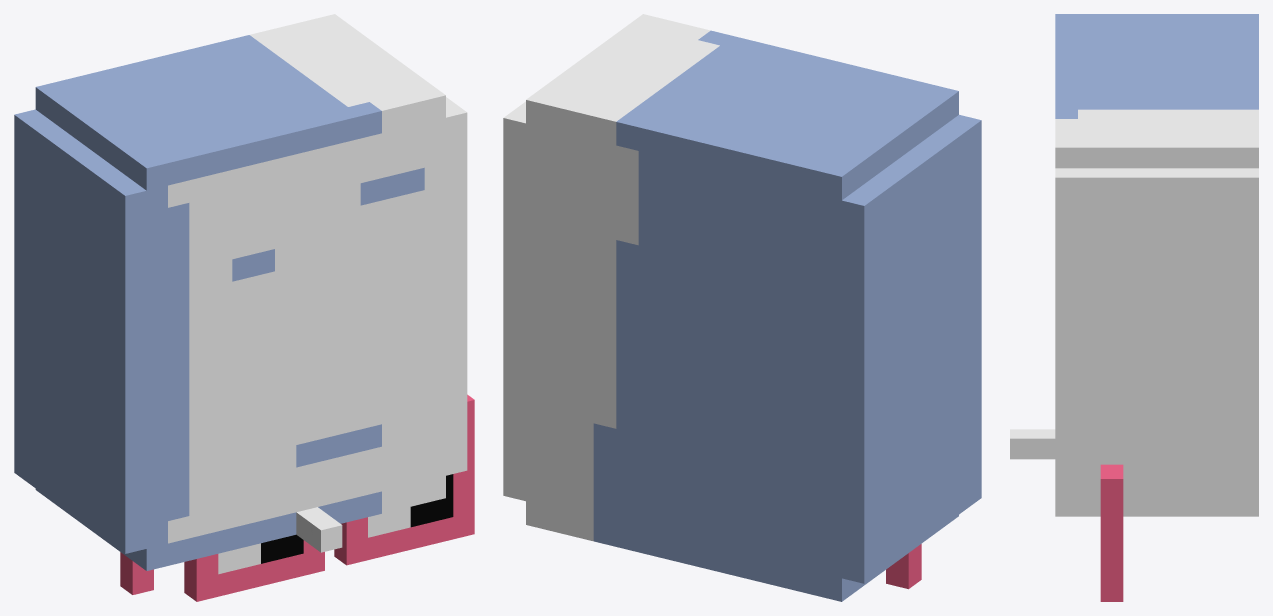
The model's file is pillow.glb.
3 renders of one model, left to right at view 1: azimuth 30°, elevation 25°; view 2: azimuth 150°, elevation 25°; view 3: azimuth 270°, elevation 25°, orthographic. The views are drawn at different scales.
Parts seen in each view (by area): view 1: base, glasses, layer-2, mouth, a1; view 2: base, glasses; view 3: base, glasses, a1.
Boxes of the visible parts, <box> form: base: <box>14,14,467,570</box>; glasses: <box>120,394,474,601</box>; layer-2: <box>218,474,453,574</box>; mouth: <box>296,424,381,467</box>; a1: <box>296,507,342,552</box>; base: <box>503,14,981,601</box>; glasses: <box>886,544,921,589</box>; base: <box>1055,14,1258,516</box>; glasses: <box>1100,464,1123,601</box>; a1: <box>1010,429,1055,459</box>.
Size of the model in its own units: 17.5 by 21 by 11.
Materials: 8 (8 with a texture image).
